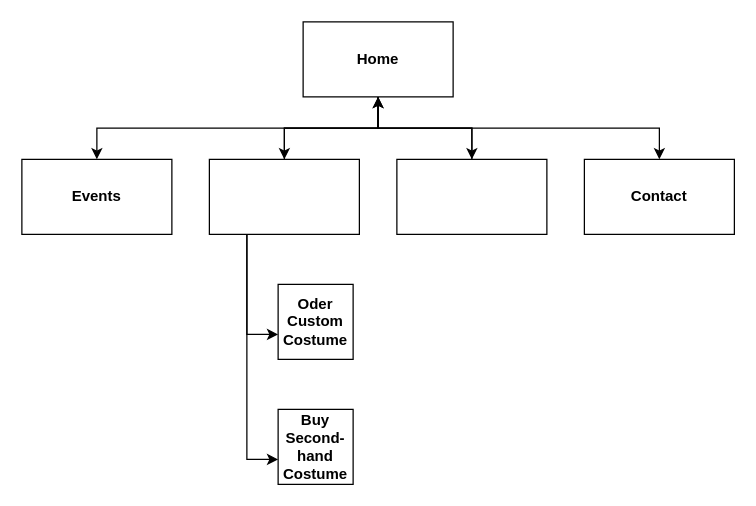
The diagram is 756 pixels wide and 506 high, and some of its shapes have lost their labels. The shapes that lost their labels are listed below. From the top down, each one's centre as x and y in pixels, then its label:
At point (283, 196): "Buy Costumes".
At point (471, 196): "About".
